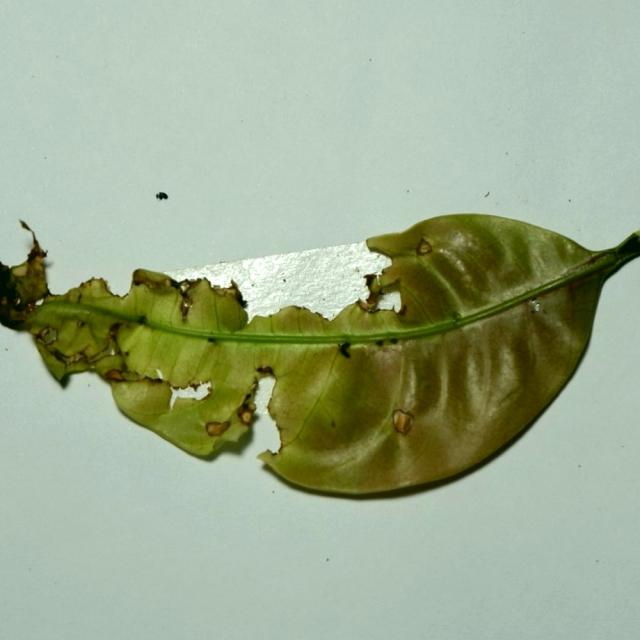Anthracnose: (173, 256, 249, 294), (170, 374, 218, 410), (379, 400, 422, 439), (252, 374, 277, 416), (372, 286, 402, 313), (204, 420, 231, 437), (39, 327, 58, 346), (416, 239, 432, 256), (105, 369, 125, 381), (168, 393, 178, 410), (529, 299, 541, 313), (155, 368, 164, 380)
Mango: (0, 214, 639, 504)
